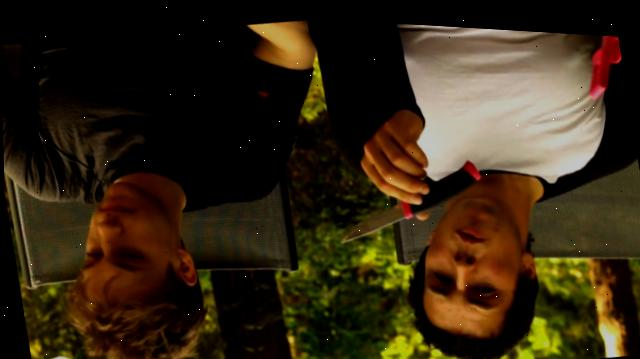pocket-knife: (322, 137, 492, 250)
